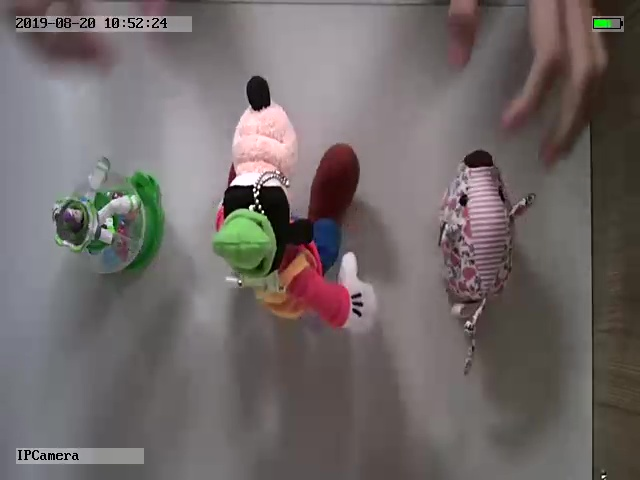buzz: (50, 156, 166, 280)
goofy: (211, 74, 378, 334)
pig: (435, 150, 536, 380)
